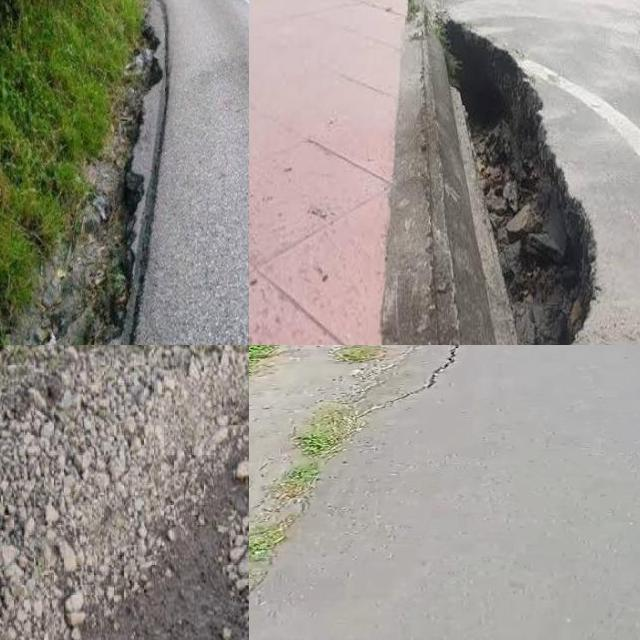Pinggir: (304, 0, 616, 345), (8, 0, 194, 345), (249, 345, 480, 618), (84, 406, 249, 640)
